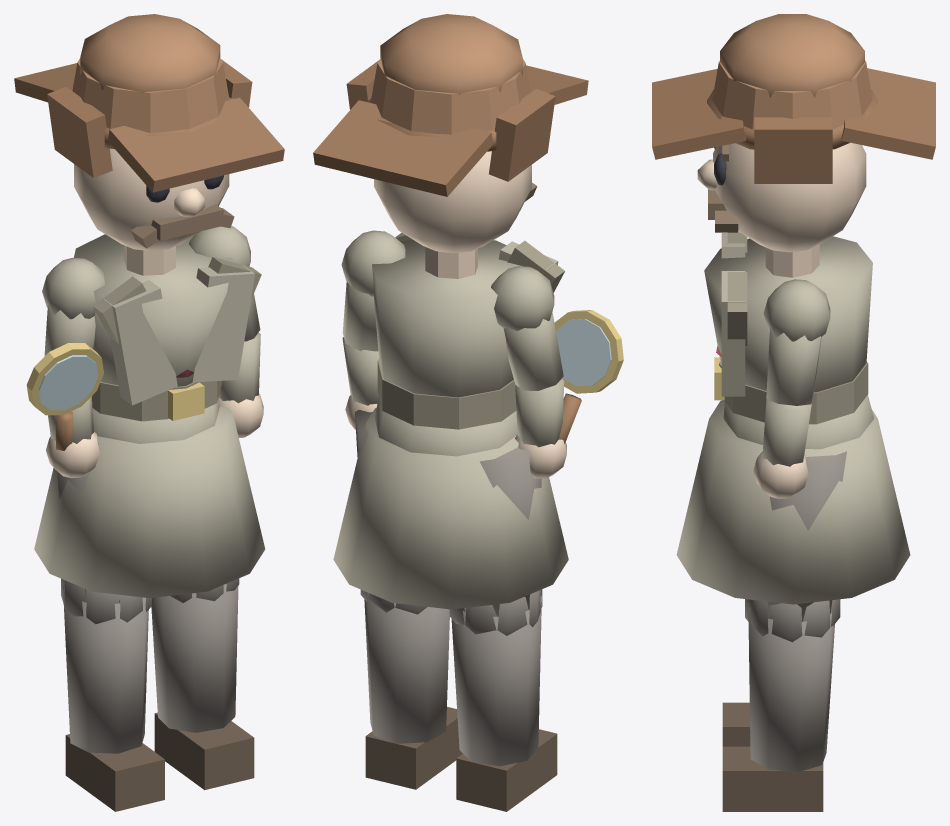
The model's file is meeple_11_detektiv_stand.glb.
The picture shows the model from 3 angles, left to right: view 1: azimuth 30°, elevation 25°; view 2: azimuth 150°, elevation 25°; view 3: azimuth 270°, elevation 25°; orthographic projection.
Visible parts, largest first — view 1: meeple_11_detektiv_stand; view 2: meeple_11_detektiv_stand; view 3: meeple_11_detektiv_stand.
Part boxes in pixels (left/top/right/bottom): meeple_11_detektiv_stand: left=14, top=14, right=284, bottom=811; meeple_11_detektiv_stand: left=313, top=14, right=623, bottom=811; meeple_11_detektiv_stand: left=652, top=14, right=935, bottom=811.
Size of the model in its own units: 0.5931 by 1.69 by 0.5779.
